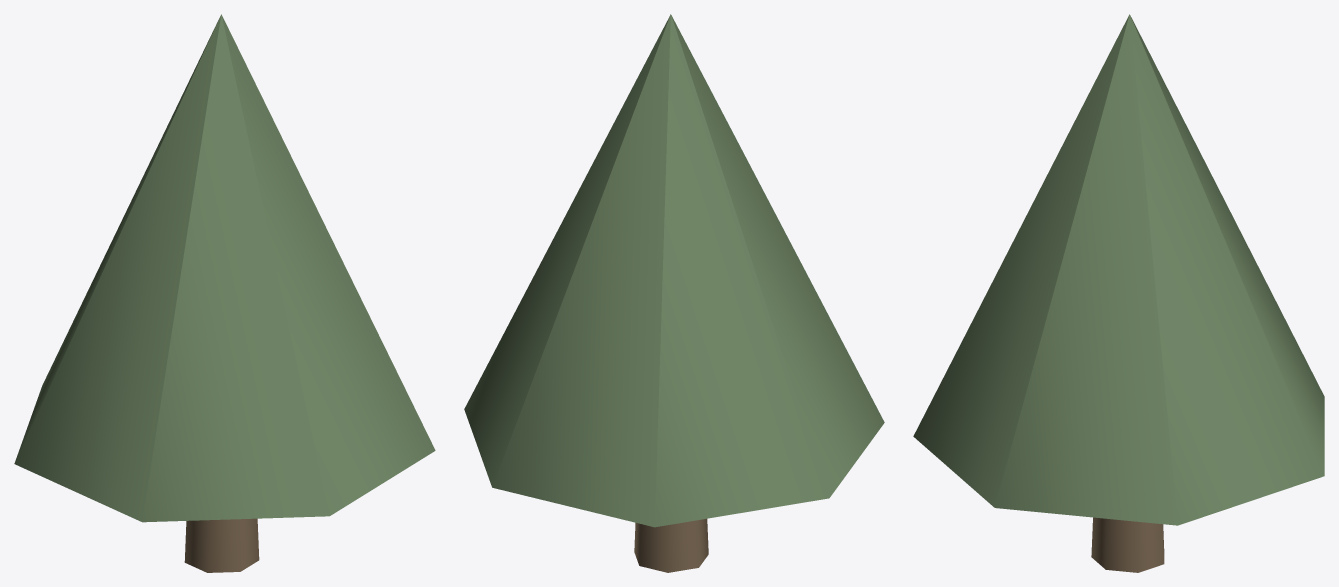
File: tree-demo.glb
The picture shows the model from 3 angles, left to right: view 1: azimuth 30°, elevation 25°; view 2: azimuth 150°, elevation 25°; view 3: azimuth 270°, elevation 25°; orthographic projection.
Visible parts, largest first — view 1: MindGardenDemoTree; view 2: MindGardenDemoTree; view 3: MindGardenDemoTree.
Part boxes in pixels (x1,y1,x2,y2): MindGardenDemoTree: (14, 14, 435, 572); MindGardenDemoTree: (464, 14, 884, 572); MindGardenDemoTree: (913, 14, 1324, 572).
Size of the model in its own units: 2.53 by 3.6 by 2.47.
